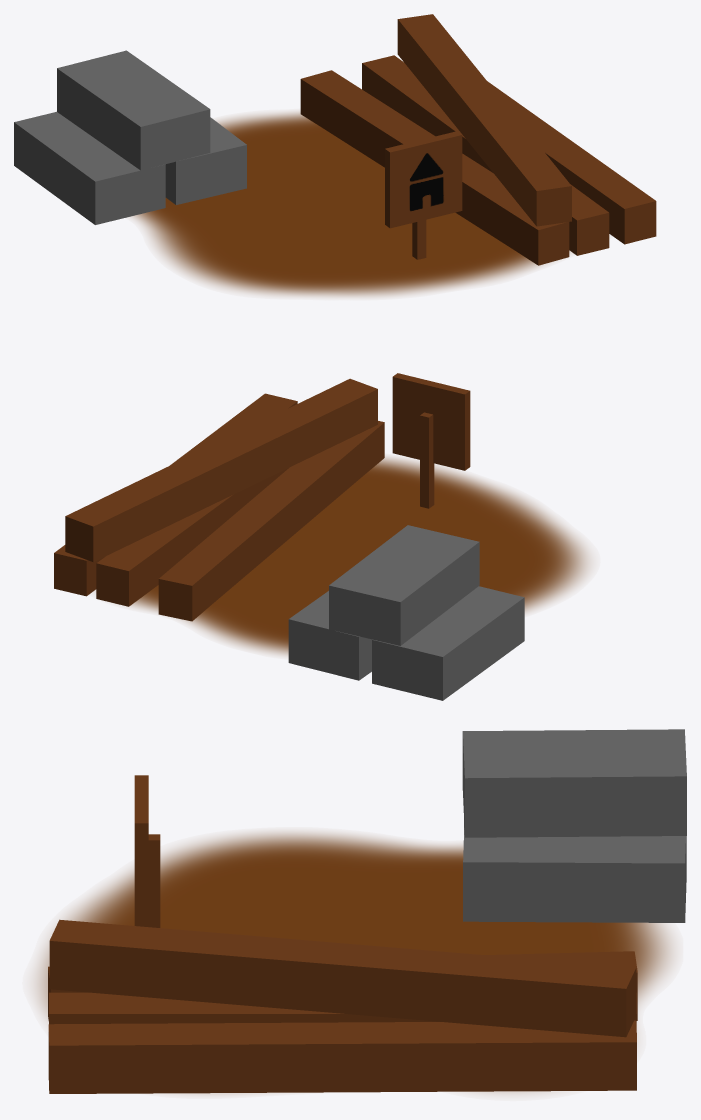
Rendered from plot.glb.
3 views of the same model, one above another, from view 1: azimuth 30°, elevation 25°; view 2: azimuth 150°, elevation 25°; view 3: azimuth 270°, elevation 25° (orthographic). The views are drawn at different scales.
Parts seen in each view (by area): view 1: Plane, Cube.005, Cube.002, Cube.004, Cube.018, Cube.014, Cube.006, Cube.003, Cube.001, Cube.012; view 2: Plane, Cube.005, Cube.004, Cube.002, Cube.018, Cube.003, Cube.006, Cube.001, Cube.014, Cube.012; view 3: Plane, Cube.005, Cube.014, Cube.002, Cube.001, Cube.003, Cube.006, Cube.004, Cube.012.
Part boxes in pixels (x1,y1,x2,y2): Plane: [132, 112, 570, 296]; Cube.005: [397, 14, 571, 226]; Cube.002: [57, 50, 210, 170]; Cube.004: [300, 70, 569, 265]; Cube.018: [14, 111, 165, 224]; Cube.014: [487, 81, 656, 244]; Cube.006: [385, 131, 462, 228]; Cube.003: [362, 55, 609, 255]; Cube.001: [165, 117, 246, 204]; Cube.012: [412, 220, 426, 259]; Plane: [131, 457, 588, 655]; Cube.005: [65, 378, 377, 562]; Cube.004: [158, 421, 384, 621]; Cube.002: [329, 525, 479, 645]; Cube.018: [372, 586, 524, 700]; Cube.003: [96, 468, 288, 606]; Cube.006: [392, 373, 470, 470]; Cube.001: [288, 591, 371, 680]; Cube.014: [54, 393, 297, 596]; Cube.012: [420, 412, 434, 508]; Plane: [36, 832, 671, 1093]; Cube.005: [49, 919, 636, 1037]; Cube.014: [48, 1020, 636, 1093]; Cube.002: [462, 729, 686, 837]; Cube.001: [463, 828, 686, 922]; Cube.003: [49, 992, 636, 1024]; Cube.006: [134, 775, 148, 926]; Cube.004: [48, 951, 637, 1020]; Cube.012: [148, 834, 160, 927].
Size of the model in its own units: 13.63 by 3.82 by 13.6.
Materials: 4 (2 with a texture image).
